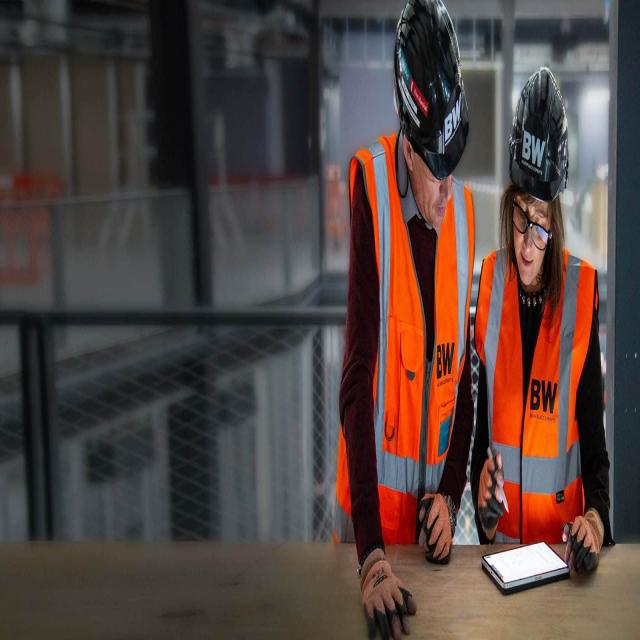goggles: (508, 202, 550, 259)
helmet: (389, 0, 473, 170), (509, 70, 566, 202)
no-goggles: (424, 144, 456, 190)
vest: (360, 212, 469, 502), (491, 274, 579, 532)
